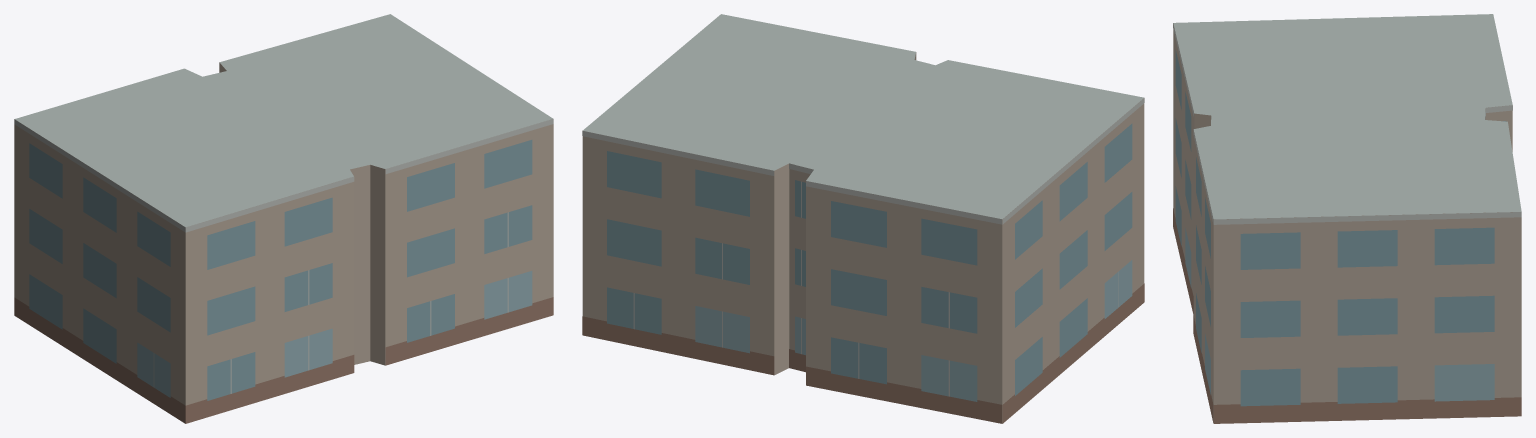
File: survey-upis-33033350.glb
3 renders of one model, left to right at view 1: azimuth 30°, elevation 25°; view 2: azimuth 150°, elevation 25°; view 3: azimuth 270°, elevation 25°, orthographic. The views are drawn at different scales.
Visible parts, largest first — view 1: survey-upis-33033350.tmp; view 2: survey-upis-33033350.tmp; view 3: survey-upis-33033350.tmp.
Boxes of the visible parts, left/top/right/bottom form: survey-upis-33033350.tmp: left=14, top=14, right=553, bottom=423; survey-upis-33033350.tmp: left=582, top=14, right=1144, bottom=423; survey-upis-33033350.tmp: left=1173, top=14, right=1521, bottom=423.
Bounding box in the file's own units: 19.73 × 9.15 × 14.14.
